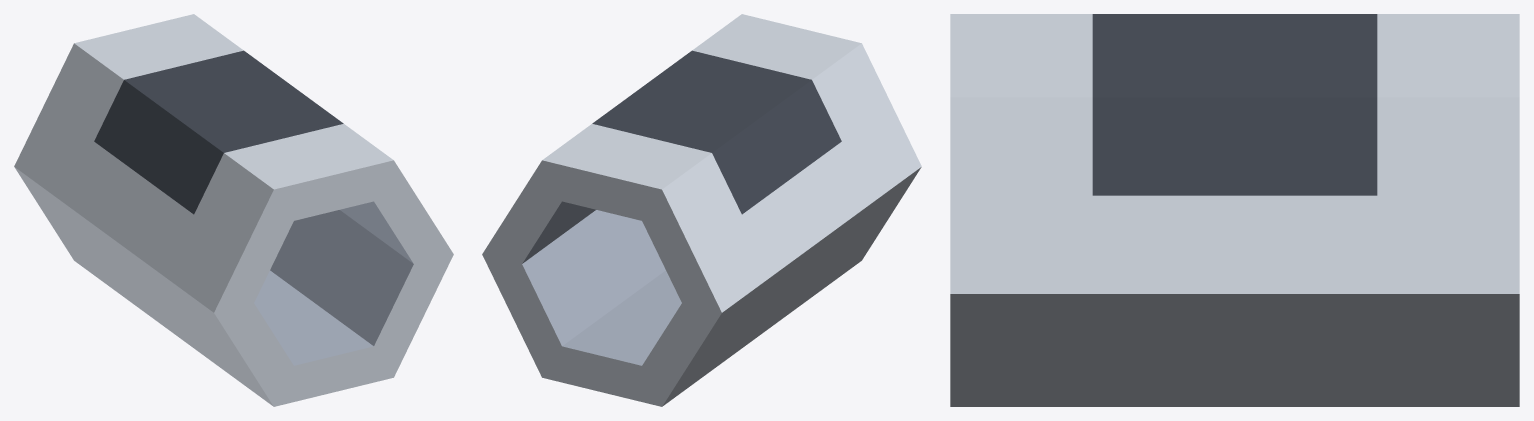
Rendered from pipe_straight.obj.
The picture shows the model from 3 angles, left to right: view 1: azimuth 30°, elevation 25°; view 2: azimuth 150°, elevation 25°; view 3: azimuth 270°, elevation 25°; orthographic projection. The views are drawn at different scales.
Parts seen in each view (by area): view 1: pipe_straight; view 2: pipe_straight; view 3: pipe_straight.
Part boxes in pixels (x1,y1,x2,y2): pipe_straight: (14, 14, 453, 406); pipe_straight: (482, 14, 921, 406); pipe_straight: (950, 14, 1519, 406).
Bounding box in the file's own units: 0.6928 × 0.6 × 1.
